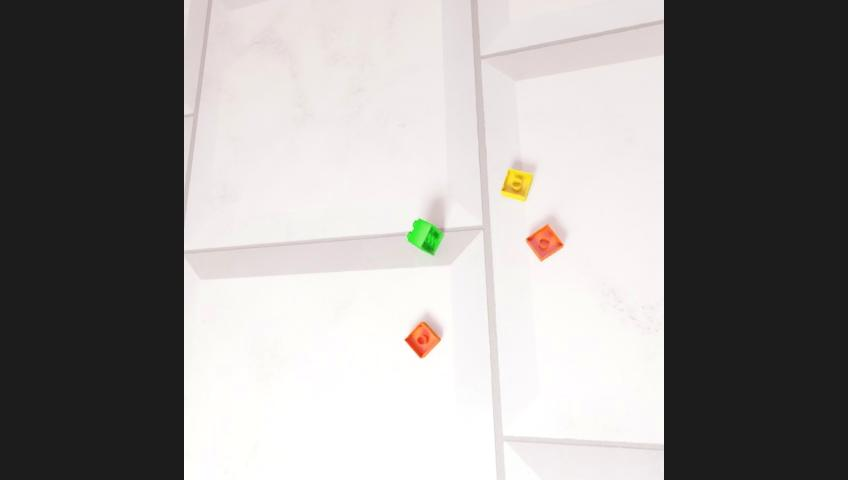2x2_orange: (403, 322, 441, 359), (525, 224, 563, 261)
2x2_yellow: (500, 169, 532, 201)
4x2_green: (406, 218, 443, 255)
